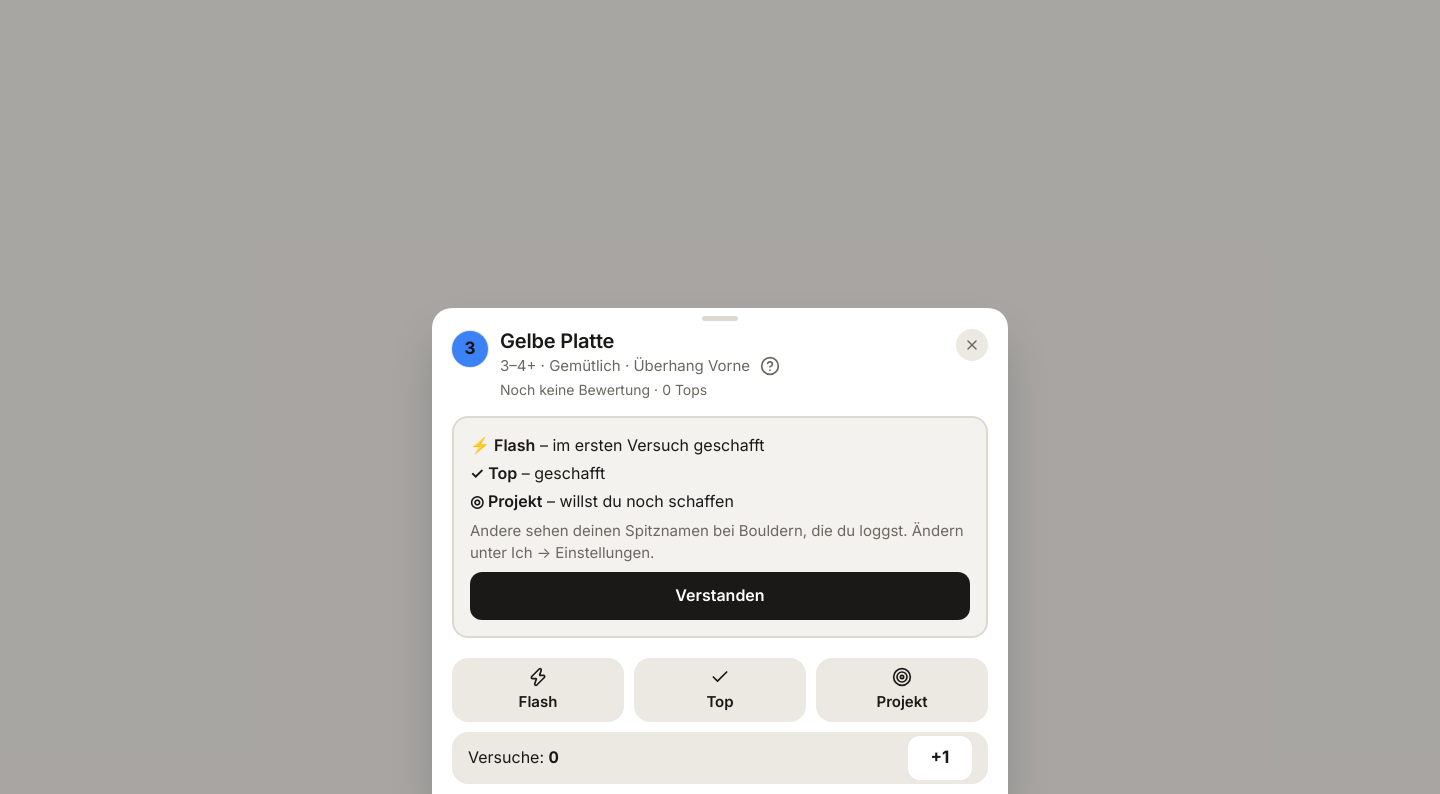
Test: SPEC-032: Kletterer-Basis › C · Erste Schritte (F9/F10) › Karte erscheint einmal und nach «Verstanden» nie wieder (AC-10)
expect the element with test id "first-steps-card" shows "Flash – im ersten Versuch geschafft": met, box 452,416 -> 988,638
expect the text with test id "first-steps-visibility" shows "Andere sehen deinen Spitznamen": met, box 470,521 -> 964,562
Click the button with test id "first-steps-ok": (720, 596) 470,572 -> 970,620
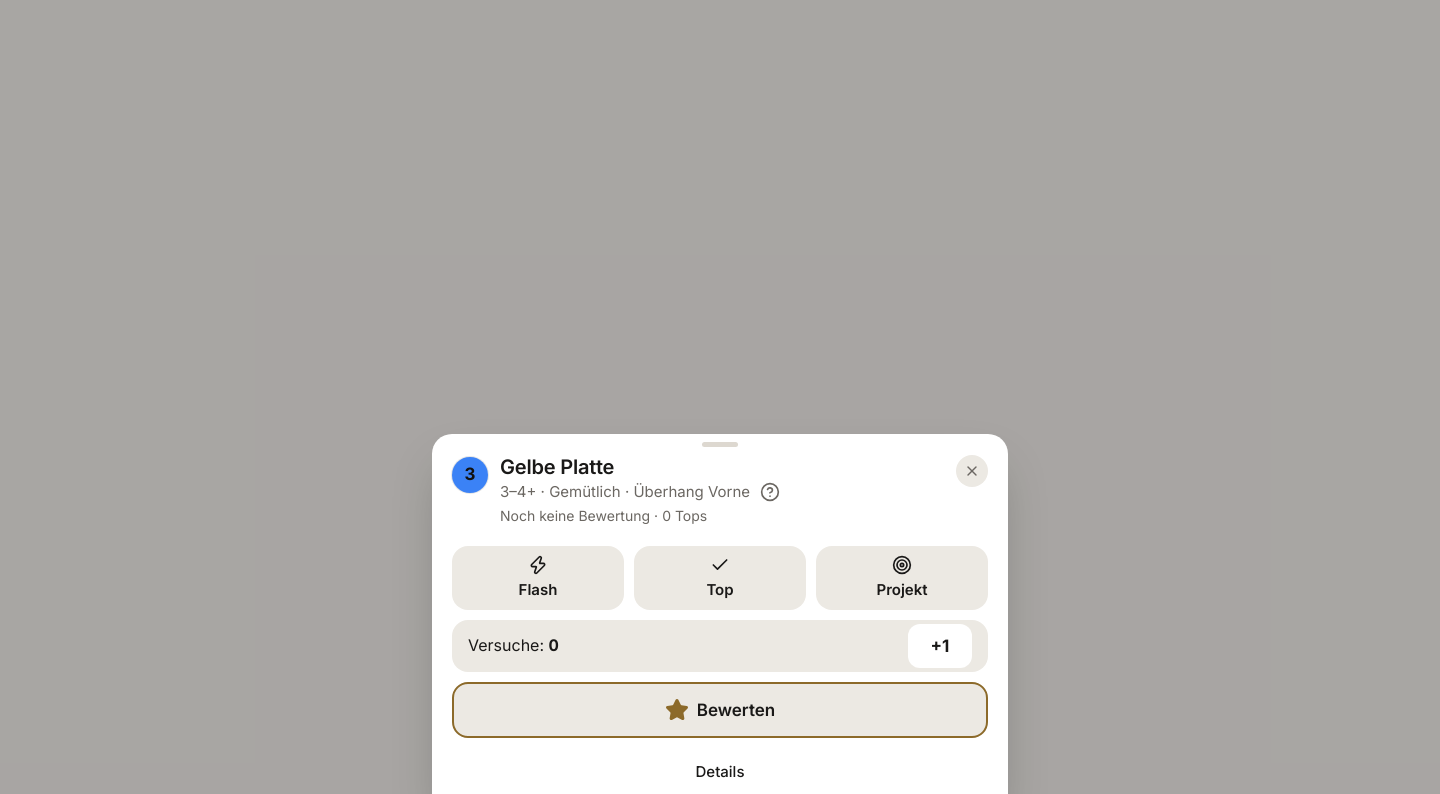
expect the element with test id "first-steps-card" is gone: met
